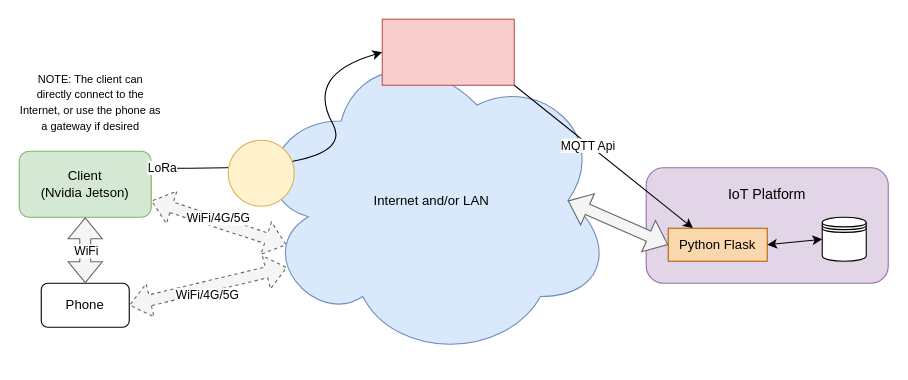
The diagram is 908 pixels wide and 380 high, and some of its shapes have lost their labels. Each missing label, with the centre of its shape:
"DB" belongs at pixel 843 238.
"Gateway LoRa" belongs at pixel 260 172.
"The Things Network" belongs at pixel 447 51.
